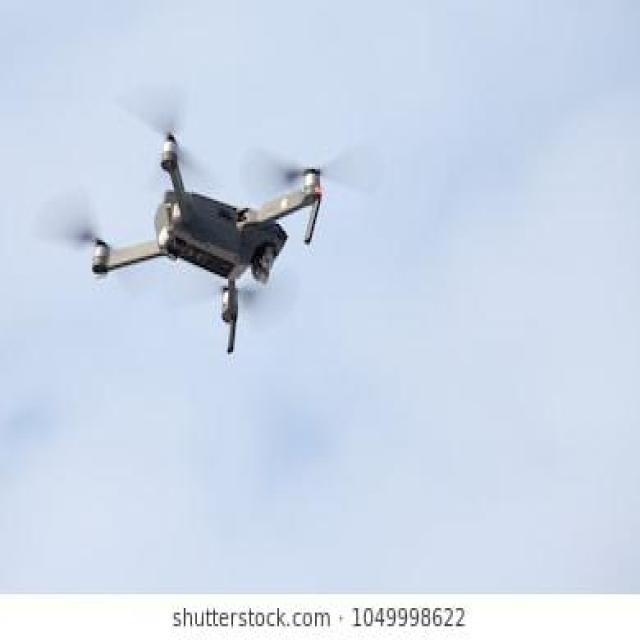drone: (5, 69, 423, 392)
